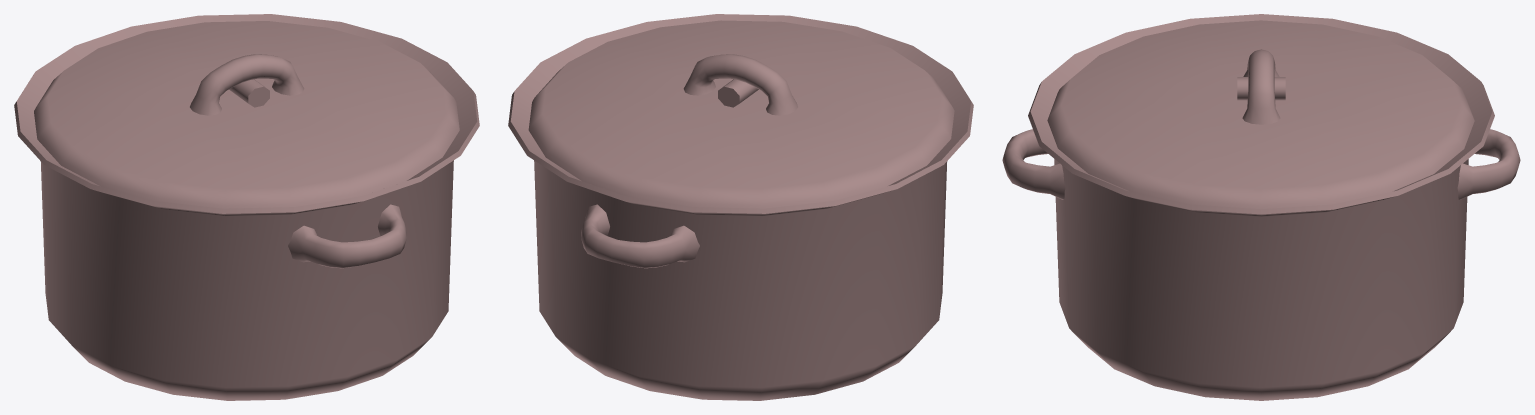
File: pot.fbx
3 renders of one model, left to right at view 1: azimuth 30°, elevation 25°; view 2: azimuth 150°, elevation 25°; view 3: azimuth 270°, elevation 25°, orthographic.
Visible parts, largest first — view 1: bottom_1_low, top_2_low; view 2: bottom_1_low, top_2_low; view 3: bottom_1_low, top_2_low.
Boxes of the visible parts, x1,y1,x2,y2 form: bottom_1_low: [14, 14, 479, 400]; top_2_low: [34, 21, 459, 208]; bottom_1_low: [508, 14, 973, 400]; top_2_low: [528, 20, 954, 208]; bottom_1_low: [1002, 14, 1520, 400]; top_2_low: [1047, 20, 1474, 209].
Size of the model in its own units: 4.4 by 2.77 by 4.89.
